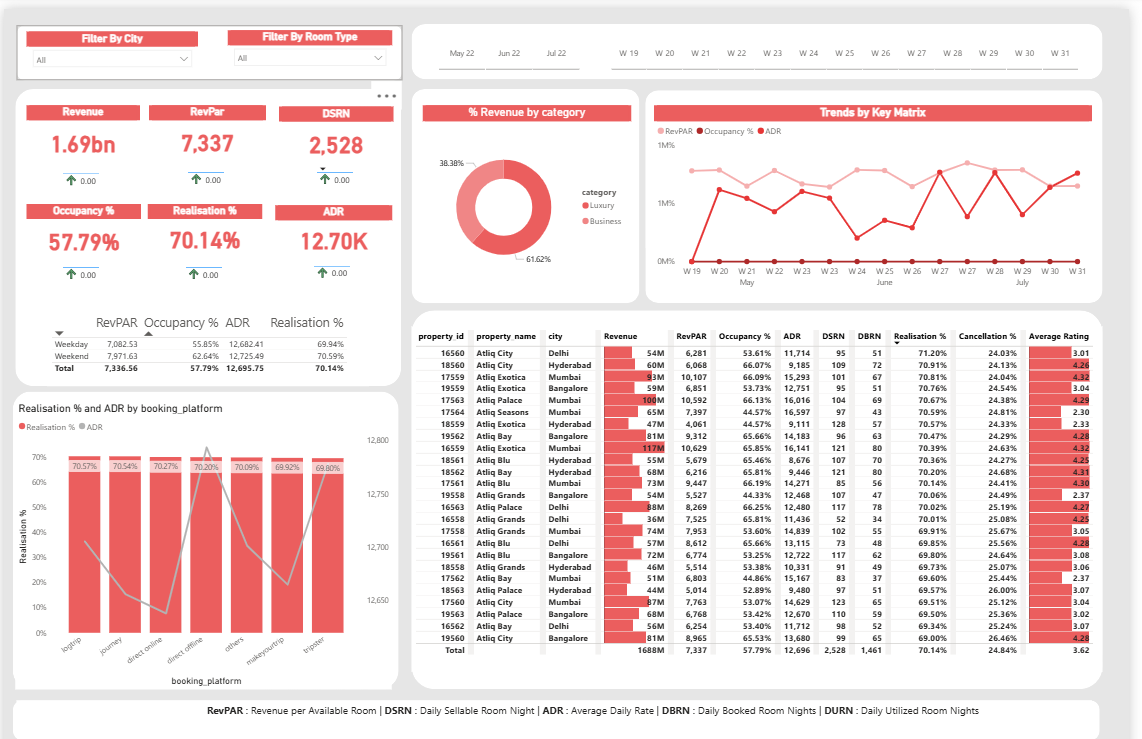

This screenshot's page, from the dashboard's own definition file:
{"tool":"powerbi","page":{"name":"Hospitality_Dashboard","canvas":[1800,1200],"ordinal":0},"visuals":[{"type":"shape","box":[1025.2,129.1,731.7,340.4],"z":0},{"type":"shape","box":[652.5,481.8,1105.9,606.4],"z":1000},{"type":"shape","box":[14.7,612.6,617.5,475.5],"z":2000},{"type":"shape","box":[652.5,127.9,364.9,342.8],"z":3000},{"type":"shape","box":[18.4,127.9,617.5,475.5],"z":4000},{"type":"shape","box":[652.5,24.6,1105.9,88.5],"z":5000},{"type":"shape","box":[20.1,26.2,617.3,88.5],"z":6000},{"type":"tableEx","fields":{"Values":["dim_hotels.property_id","dim_hotels.property_name","dim_hotels.city","key_measures.Revenue","key_measures.RevPAR","key_measures.Occupancy %","key_measures.ADR","key_measures.DSRN","key_measures.DBRN","key_measures.Realisation %","key_measures.Cancellation %","key_measures.Average Rating"]},"box":[651.5,508.7,1105.4,551.7],"z":7000},{"type":"slicer","title":"Filter By City","fields":{"Values":["dim_hotels.city"]},"box":[36.8,35.7,274.6,66.4],"z":8000},{"type":"slicer","title":"Filter By Room Type","fields":{"Values":["dim_rooms.room_class"]},"box":[357.6,33.9,263.6,68.2],"z":9000},{"type":"slicer","fields":{"Values":["dim_date.mmm yy"]},"box":[670.9,35.7,274.6,68.2],"z":10000},{"type":"slicer","fields":{"Values":["dim_date.week no"]},"box":[945.5,35.7,796.3,68.2],"z":11000},{"type":"donutChart","title":"% Revenue by category","fields":{"Category":["dim_hotels.category"],"Y":["key_measures.Revenue"]},"box":[670.9,153.7,333.6,306],"z":12000},{"type":"lineStackedColumnComboChart","fields":{"Category":["fact_bookings.booking_platform"],"Y":["key_measures.Realisation %"],"Y2":["key_measures.ADR"]},"box":[18.4,627.4,602.7,460.8],"z":13000},{"type":"tableEx","fields":{"Values":["dim_date.day type","key_measures.RevPAR","key_measures.Occupancy %","key_measures.ADR","key_measures.Realisation %"]},"box":[70,481.8,512.4,121.6],"z":14000},{"type":"tableEx","fields":{"Values":["key_measures.Revenue WoW change %"]},"box":[87.3,230.3,76.6,72.9],"z":15000},{"type":"card","title":"Revenue","fields":{"Values":["key_measures.Revenue"]},"box":[36.9,153.7,181.2,99],"z":16000},{"type":"tableEx","fields":{"Values":["key_measures.Revenue WoW change %"]},"box":[288.7,228.8,74.7,72.9],"z":17000},{"type":"tableEx","fields":{"Values":["key_measures.Revenue WoW change %"]},"box":[88.7,379.8,76.6,72.9],"z":18000},{"type":"tableEx","fields":{"Values":["key_measures.Revenue WoW change %"]},"box":[283.9,379.8,76.6,72.9],"z":19000},{"type":"tableEx","fields":{"Values":["key_measures.Revenue WoW change %"]},"box":[489.4,377.9,76.6,72.9],"z":20000},{"type":"card","title":"ADR","fields":{"Values":["key_measures.ADR"]},"box":[434.3,314.4,186.8,89.7],"z":21000},{"type":"tableEx","fields":{"Values":["key_measures.Revenue WoW change %"]},"box":[494.3,228.5,74.7,72.9],"z":22000},{"type":"card","title":"DSRN","fields":{"Values":["key_measures.DSRN"]},"box":[440.2,155.6,183.1,97.1],"z":23000},{"type":"card","title":"Realisation %","fields":{"Values":["key_measures.Realisation %"]},"box":[230.7,312.5,183.1,91.5],"z":24000},{"type":"card","title":"Occupancy %","fields":{"Values":["key_measures.Occupancy %"]},"box":[35.5,312.5,183.1,97.1],"z":25000},{"type":"card","title":"RevPar","fields":{"Values":["key_measures.RevPAR"]},"box":[232.7,153.7,186.8,97.1],"z":26000},{"type":"lineChart","title":"Trends by Key Matrix","fields":{"Category":["dim_date.mmm yy.Variation.Date Hierarchy.Month","dim_date.week no"],"Y":["key_measures.RevPAR","key_measures.Occupancy %"],"Y2":["key_measures.ADR"]},"box":[1040.9,154.6,700.4,305.2],"z":27000},{"type":"shape","box":[14.1,1105.9,1739.3,64.3],"z":28000},{"type":"textbox","box":[20.1,1105.9,1721.2,46.2],"z":29000}]}

Visuals, with their boxes on the page's 1800x1200 design canvas (x1, y1, x2, y2). These are canvas units, not pixel positions in the 1142x739 screenshot, which may show the page scaled, cropped or inside an application window:
shape: {"left": 1025, "top": 129, "right": 1757, "bottom": 470}
shape: {"left": 652, "top": 482, "right": 1758, "bottom": 1088}
shape: {"left": 15, "top": 613, "right": 632, "bottom": 1088}
shape: {"left": 652, "top": 128, "right": 1017, "bottom": 471}
shape: {"left": 18, "top": 128, "right": 636, "bottom": 603}
shape: {"left": 652, "top": 25, "right": 1758, "bottom": 113}
shape: {"left": 20, "top": 26, "right": 637, "bottom": 115}
tableEx - dim_hotels.property_id x dim_hotels.property_name: {"left": 652, "top": 509, "right": 1757, "bottom": 1060}
"Filter By City" slicer: {"left": 37, "top": 36, "right": 311, "bottom": 102}
"Filter By Room Type" slicer: {"left": 358, "top": 34, "right": 621, "bottom": 102}
slicer - dim_date.mmm yy: {"left": 671, "top": 36, "right": 946, "bottom": 104}
slicer - dim_date.week no: {"left": 946, "top": 36, "right": 1742, "bottom": 104}
"% Revenue by category" donutChart: {"left": 671, "top": 154, "right": 1004, "bottom": 460}
lineStackedColumnComboChart - fact_bookings.booking_platform x key_measures.Realisation %: {"left": 18, "top": 627, "right": 621, "bottom": 1088}
tableEx - dim_date.day type x key_measures.RevPAR: {"left": 70, "top": 482, "right": 582, "bottom": 603}
tableEx - key_measures.Revenue WoW change %: {"left": 87, "top": 230, "right": 164, "bottom": 303}
"Revenue" card: {"left": 37, "top": 154, "right": 218, "bottom": 253}
tableEx - key_measures.Revenue WoW change %: {"left": 289, "top": 229, "right": 363, "bottom": 302}
tableEx - key_measures.Revenue WoW change %: {"left": 89, "top": 380, "right": 165, "bottom": 453}
tableEx - key_measures.Revenue WoW change %: {"left": 284, "top": 380, "right": 360, "bottom": 453}
tableEx - key_measures.Revenue WoW change %: {"left": 489, "top": 378, "right": 566, "bottom": 451}
"ADR" card: {"left": 434, "top": 314, "right": 621, "bottom": 404}
tableEx - key_measures.Revenue WoW change %: {"left": 494, "top": 228, "right": 569, "bottom": 301}
"DSRN" card: {"left": 440, "top": 156, "right": 623, "bottom": 253}
"Realisation %" card: {"left": 231, "top": 312, "right": 414, "bottom": 404}
"Occupancy %" card: {"left": 36, "top": 312, "right": 219, "bottom": 410}
"RevPar" card: {"left": 233, "top": 154, "right": 420, "bottom": 251}
"Trends by Key Matrix" lineChart: {"left": 1041, "top": 155, "right": 1741, "bottom": 460}
shape: {"left": 14, "top": 1106, "right": 1753, "bottom": 1170}
textbox: {"left": 20, "top": 1106, "right": 1741, "bottom": 1152}
